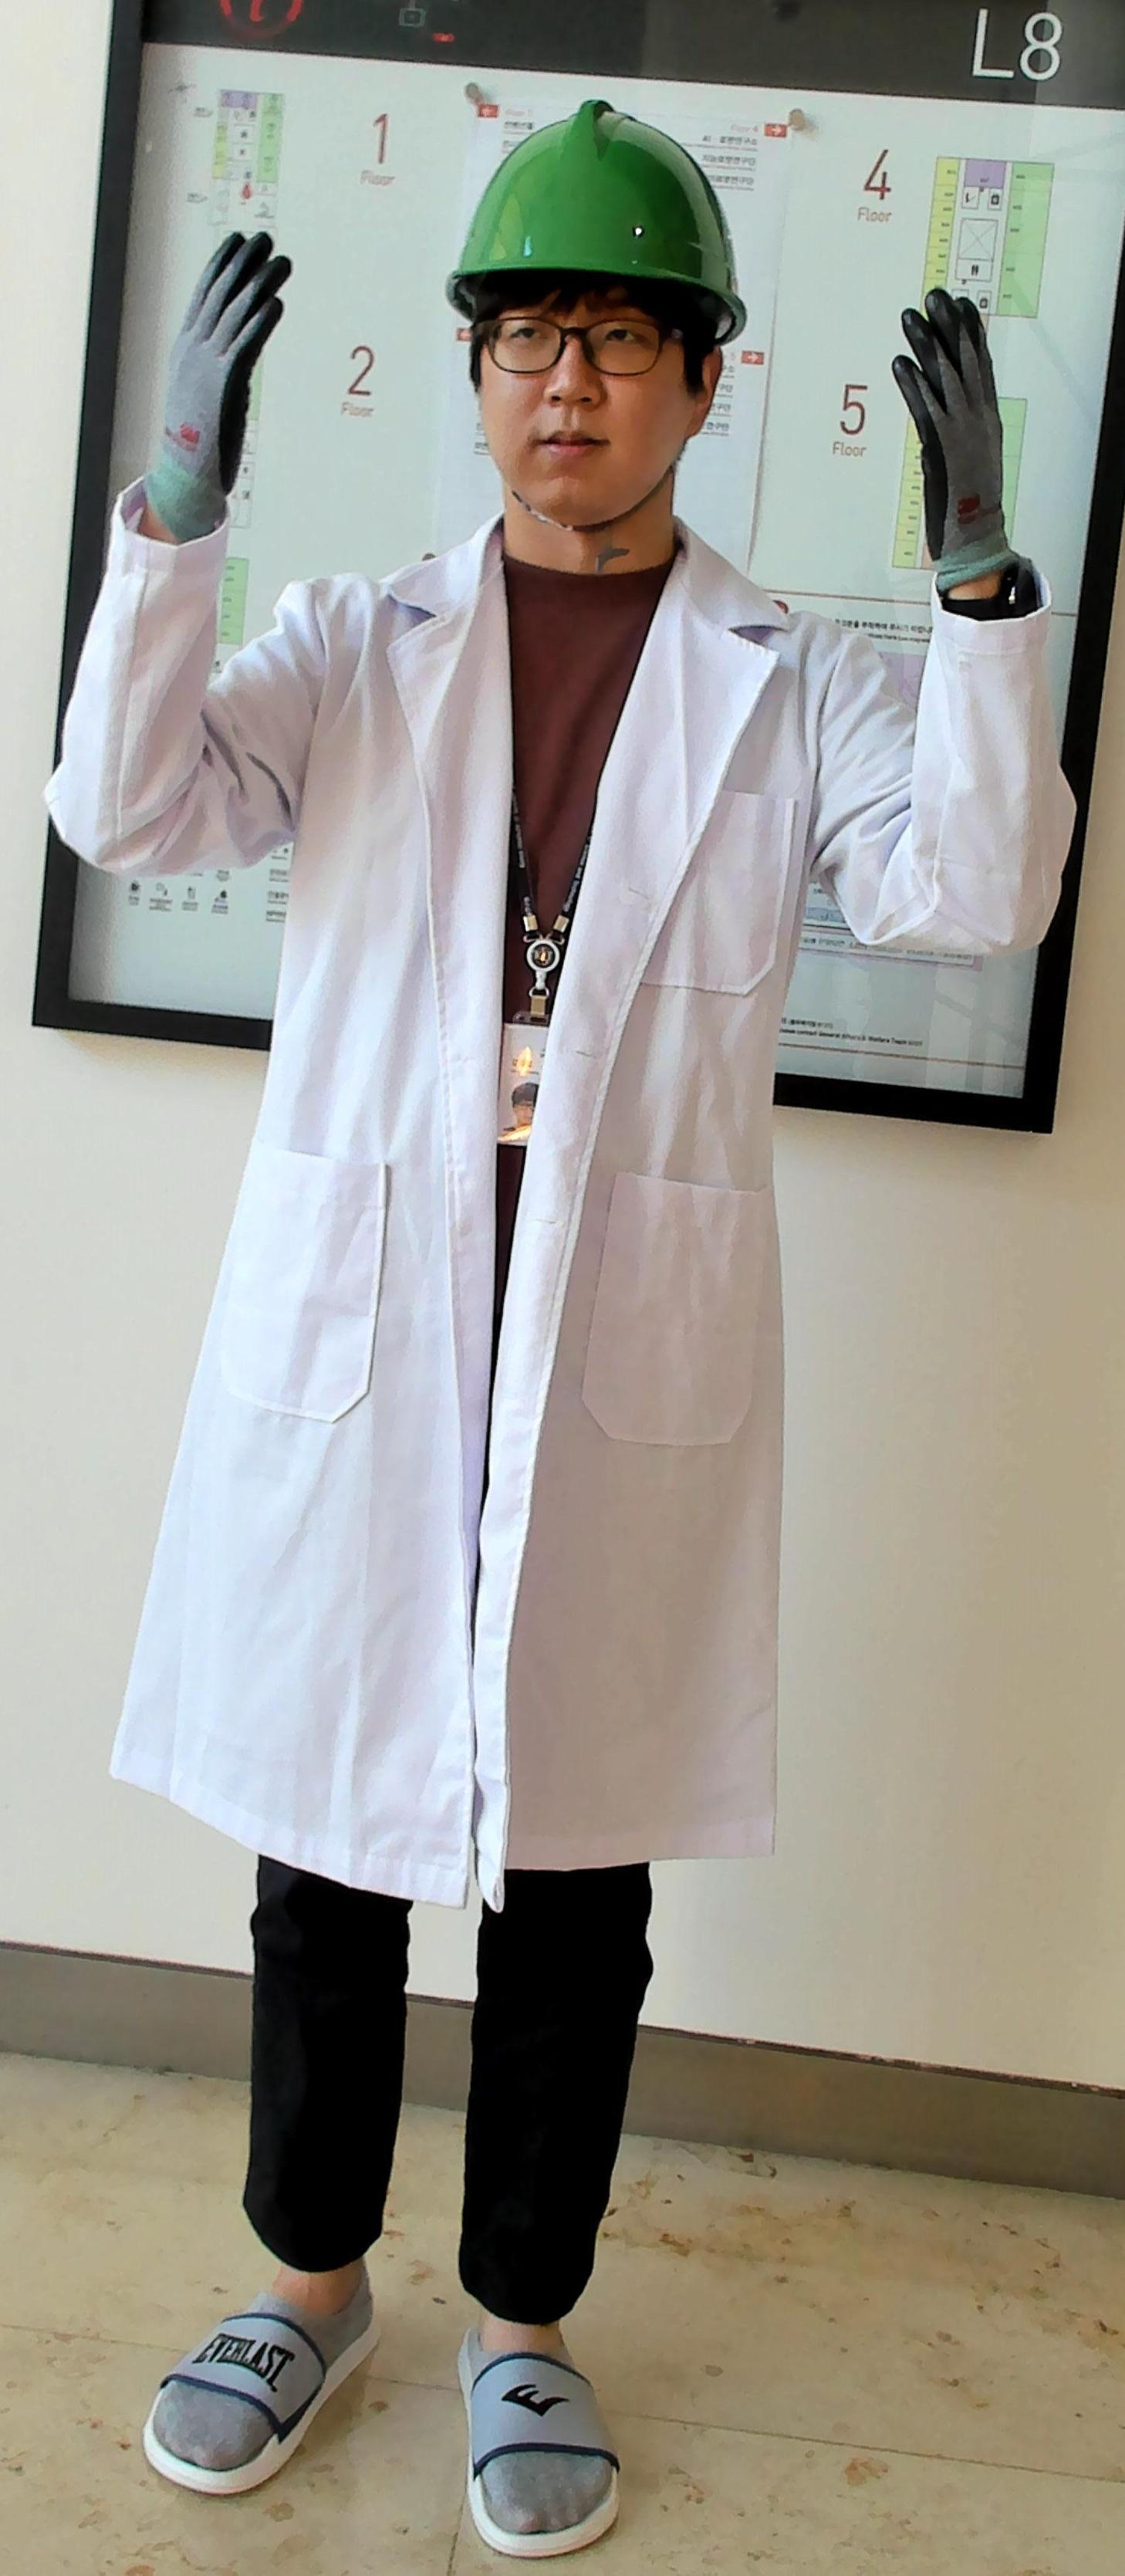lab_coat: (115, 642, 905, 1814)
